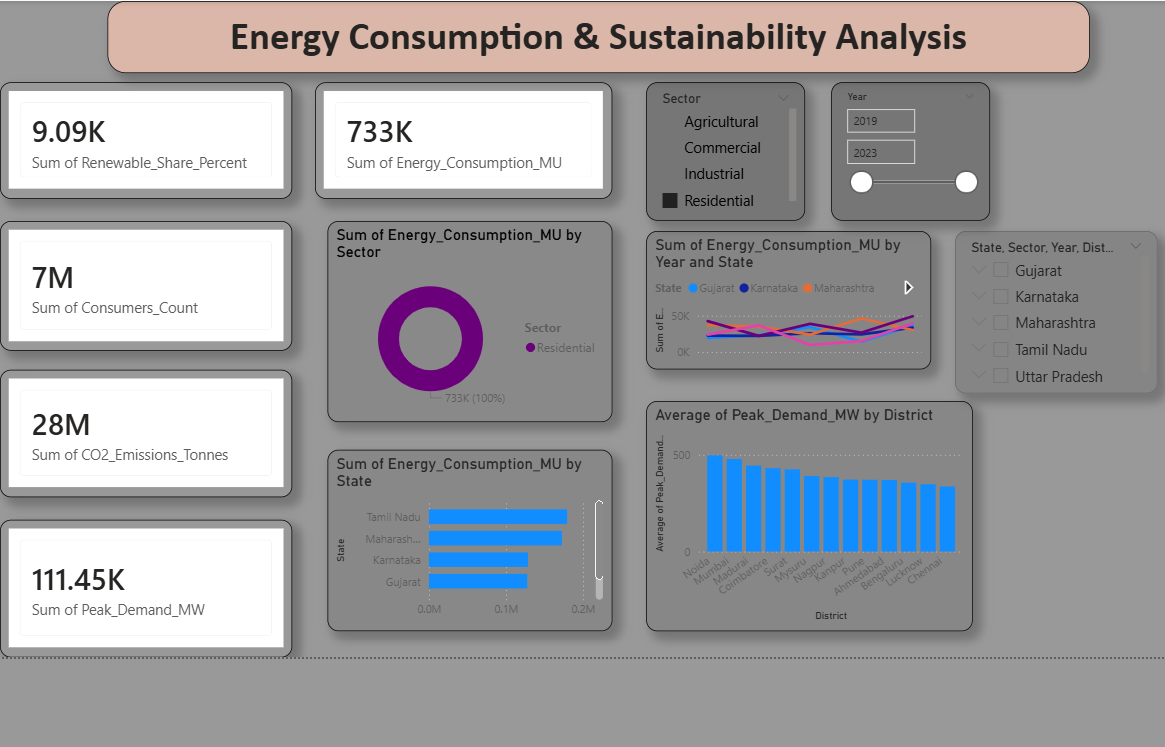

The dashboard page shown, as its layout file describes it:
{"tool":"powerbi","page":{"name":"DASHBOARD","canvas":[1280,720],"ordinal":0},"visuals":[{"type":"cardVisual","fields":{"Data":["Sum(Energy_Sustainability_Government_Dataset_1000_Rows.Energy_Consumption_MU)"]},"box":[345.8,89.2,326.6,127.6],"z":0},{"type":"cardVisual","fields":{"Data":["Sum(Energy_Sustainability_Government_Dataset_1000_Rows.Consumers_Count)"]},"box":[0,241.5,321.1,142.7],"z":1000},{"type":"cardVisual","fields":{"Data":["Sum(Energy_Sustainability_Government_Dataset_1000_Rows.Peak_Demand_MW)"]},"box":[0,569.5,321.1,150.9],"z":2000},{"type":"cardVisual","fields":{"Data":["Sum(Energy_Sustainability_Government_Dataset_1000_Rows.Renewable_Share_Percent)"]},"box":[0,89.2,321.1,127.6],"z":3000},{"type":"cardVisual","fields":{"Data":["Sum(Energy_Sustainability_Government_Dataset_1000_Rows.CO2_Emissions_Tonnes)"]},"box":[0,404.8,321.1,140],"z":4000},{"type":"clusteredBarChart","fields":{"Y":["Sum(Energy_Sustainability_Government_Dataset_1000_Rows.Energy_Consumption_MU)"],"Category":["Energy_Sustainability_Government_Dataset_1000_Rows.State"]},"box":[359.5,492.6,312.9,199],"z":5000},{"type":"donutChart","fields":{"Category":["Energy_Sustainability_Government_Dataset_1000_Rows.Sector"],"Y":["Sum(Energy_Sustainability_Government_Dataset_1000_Rows.Energy_Consumption_MU)"]},"box":[359.5,241.5,312.9,220.9],"z":6000},{"type":"lineChart","fields":{"Category":["Energy_Sustainability_Government_Dataset_1000_Rows.Year"],"Y":["Sum(Energy_Sustainability_Government_Dataset_1000_Rows.Energy_Consumption_MU)"],"Series":["Energy_Sustainability_Government_Dataset_1000_Rows.State"]},"box":[709.4,252.5,312.9,152.3],"z":7000},{"type":"columnChart","fields":{"Category":["Energy_Sustainability_Government_Dataset_1000_Rows.District"],"Y":["Avg(Energy_Sustainability_Government_Dataset_1000_Rows.Peak_Demand_MW)"]},"box":[709.4,439.1,358.1,252.5],"z":8000},{"type":"slicer","fields":{"Values":["Energy_Sustainability_Government_Dataset_1000_Rows.State","Energy_Sustainability_Government_Dataset_1000_Rows.Sector","Energy_Sustainability_Government_Dataset_1000_Rows.Year","Energy_Sustainability_Government_Dataset_1000_Rows.District","Energy_Sustainability_Government_Dataset_1000_Rows.Division"]},"box":[1048.4,252.5,222.3,178.4],"z":9000},{"type":"textbox","box":[118,0,1078.6,79.6],"z":10000},{"type":"slicer","fields":{"Values":["Energy_Sustainability_Government_Dataset_1000_Rows.Sector"]},"box":[709.4,89.2,174.3,152.3],"z":11000},{"type":"slicer","fields":{"Values":["Energy_Sustainability_Government_Dataset_1000_Rows.Year"]},"box":[912.5,89.2,174.3,152.3],"z":12000}]}

Visuals, with their boxes on the page's 1280x720 design canvas (x1, y1, x2, y2). These are canvas units, not pixel positions in the 1165x747 screenshot, which may show the page scaled, cropped or inside an application window:
cardVisual - Sum(Energy_Sustainability_Government_Dataset_1000_Rows.Energy_Consumption_MU): x1=346 y1=89 x2=672 y2=217
cardVisual - Sum(Energy_Sustainability_Government_Dataset_1000_Rows.Consumers_Count): x1=0 y1=242 x2=321 y2=384
cardVisual - Sum(Energy_Sustainability_Government_Dataset_1000_Rows.Peak_Demand_MW): x1=0 y1=570 x2=321 y2=720
cardVisual - Sum(Energy_Sustainability_Government_Dataset_1000_Rows.Renewable_Share_Percent): x1=0 y1=89 x2=321 y2=217
cardVisual - Sum(Energy_Sustainability_Government_Dataset_1000_Rows.CO2_Emissions_Tonnes): x1=0 y1=405 x2=321 y2=545
clusteredBarChart - Sum(Energy_Sustainability_Government_Dataset_1000_Rows.Energy_Consumption_MU) x Energy_Sustainability_Government_Dataset_1000_Rows.State: x1=360 y1=493 x2=672 y2=692
donutChart - Energy_Sustainability_Government_Dataset_1000_Rows.Sector x Sum(Energy_Sustainability_Government_Dataset_1000_Rows.Energy_Consumption_MU): x1=360 y1=242 x2=672 y2=462
lineChart - Energy_Sustainability_Government_Dataset_1000_Rows.Year x Sum(Energy_Sustainability_Government_Dataset_1000_Rows.Energy_Consumption_MU): x1=709 y1=252 x2=1022 y2=405
columnChart - Energy_Sustainability_Government_Dataset_1000_Rows.District x Avg(Energy_Sustainability_Government_Dataset_1000_Rows.Peak_Demand_MW): x1=709 y1=439 x2=1068 y2=692
slicer - Energy_Sustainability_Government_Dataset_1000_Rows.State x Energy_Sustainability_Government_Dataset_1000_Rows.Sector: x1=1048 y1=252 x2=1271 y2=431
textbox: x1=118 y1=0 x2=1197 y2=80
slicer - Energy_Sustainability_Government_Dataset_1000_Rows.Sector: x1=709 y1=89 x2=884 y2=242
slicer - Energy_Sustainability_Government_Dataset_1000_Rows.Year: x1=912 y1=89 x2=1087 y2=242
